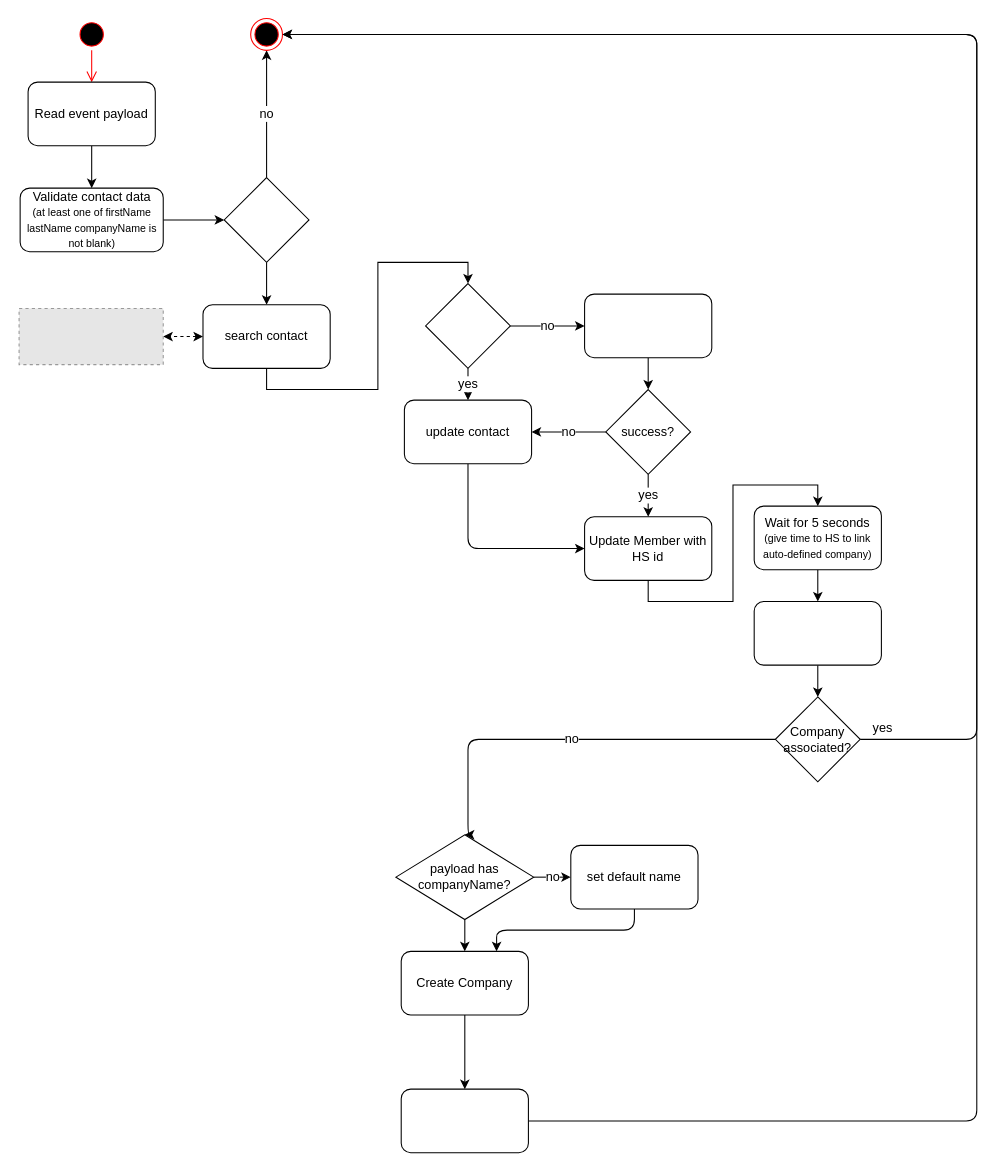
Image size: 1004x1171. Some labels were removed from this diagram. Grey dashed boxes stand in for pictures. The shapes that lost their labels are listed below. From the top down, each one's centre as x and y in pixels, then its label:
(x=266, y=219): is valid?
(x=467, y=325): found?
(x=648, y=325): Create Contact
(x=817, y=632): Get Contact by id
(x=464, y=1120): Associate contact with company
